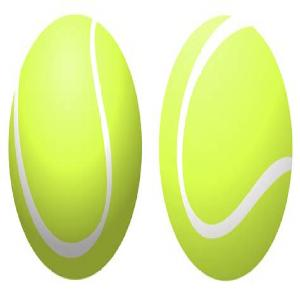Tennis: (1, 5, 145, 300), (152, 0, 298, 288)
